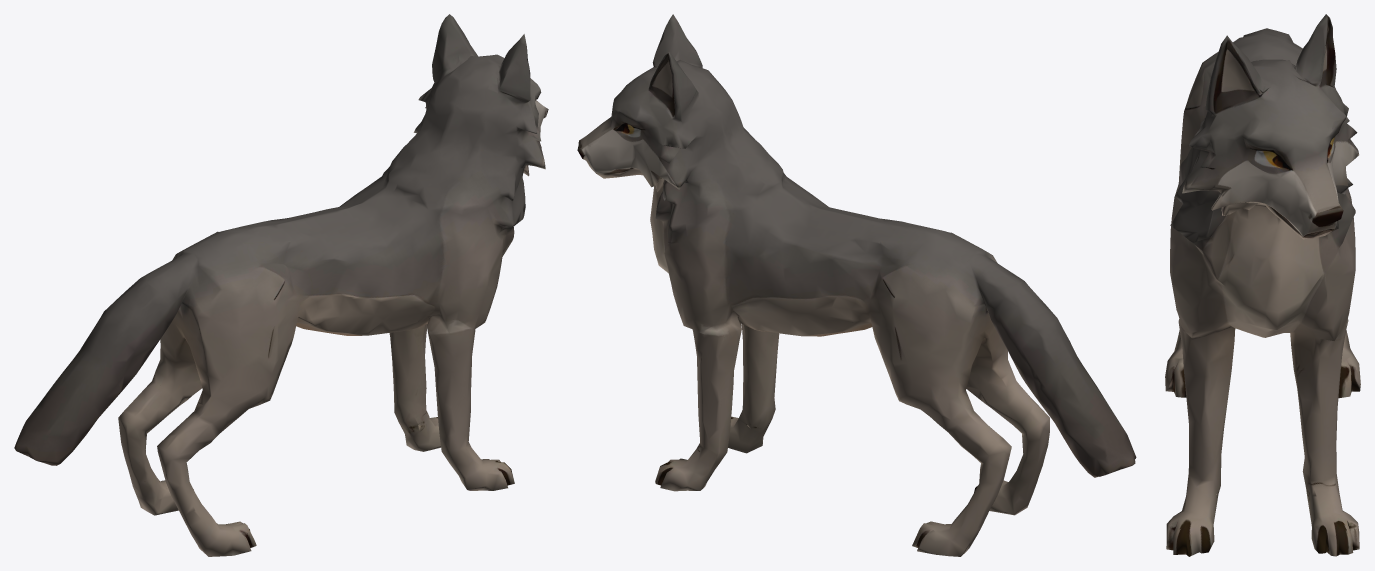
The model's file is wolf.glb.
3 views of the same model, side by side, from view 1: azimuth 30°, elevation 25°; view 2: azimuth 150°, elevation 25°; view 3: azimuth 270°, elevation 25° (orthographic). The views are drawn at different scales.
Parts seen in each view (by area): view 1: tripo_node_4c1e96b0-3fc0-4836-995d-cb40cb731f0e; view 2: tripo_node_4c1e96b0-3fc0-4836-995d-cb40cb731f0e; view 3: tripo_node_4c1e96b0-3fc0-4836-995d-cb40cb731f0e.
Boxes of the visible parts, x1=… form: tripo_node_4c1e96b0-3fc0-4836-995d-cb40cb731f0e: x1=14, y1=14, x2=548, y2=556; tripo_node_4c1e96b0-3fc0-4836-995d-cb40cb731f0e: x1=577, y1=14, x2=1136, y2=556; tripo_node_4c1e96b0-3fc0-4836-995d-cb40cb731f0e: x1=1165, y1=14, x2=1360, y2=556.
Size of the model in its own units: 1 by 0.7504 by 0.2467.
Materials: 1 (1 with a texture image).
